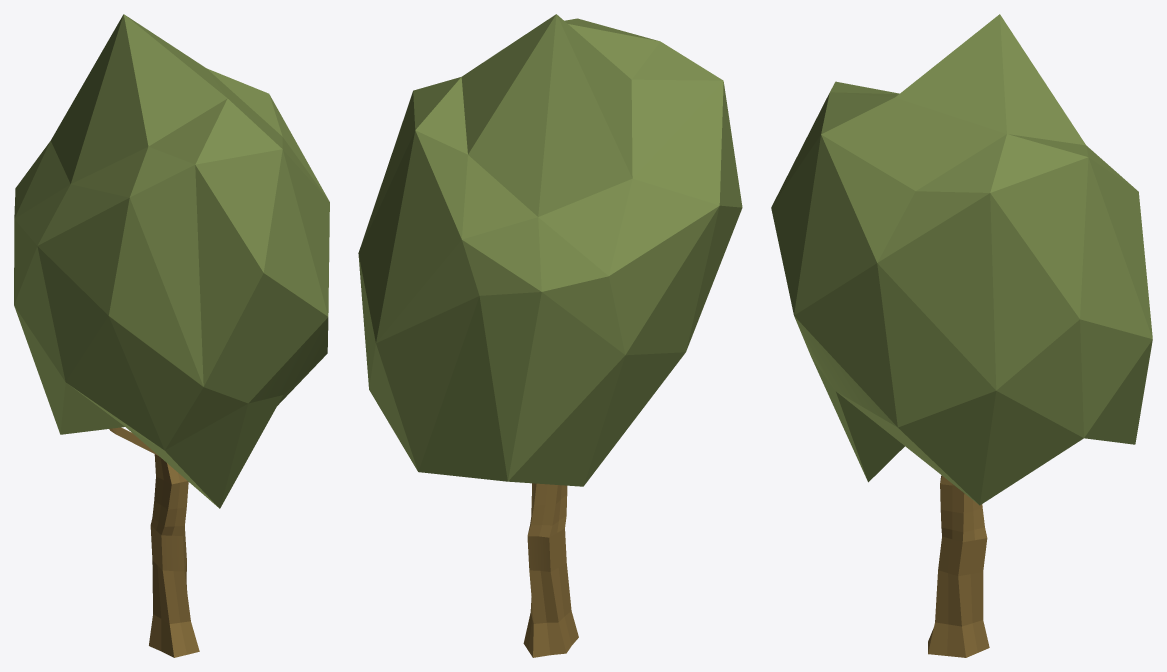
Rendered from small_tree_4.fbx.
The picture shows the model from 3 angles, left to right: view 1: azimuth 30°, elevation 25°; view 2: azimuth 150°, elevation 25°; view 3: azimuth 270°, elevation 25°; orthographic projection. The views are drawn at different scales.
Parts seen in each view (by area): view 1: Cylinder.001; view 2: Cylinder.001; view 3: Cylinder.001.
Part boxes in pixels (box(x1,y1,x2,y2)): Cylinder.001: box(14, 14, 329, 657); Cylinder.001: box(358, 14, 742, 657); Cylinder.001: box(771, 14, 1152, 657).
Bounding box in the file's own units: 201 × 415 × 231.
